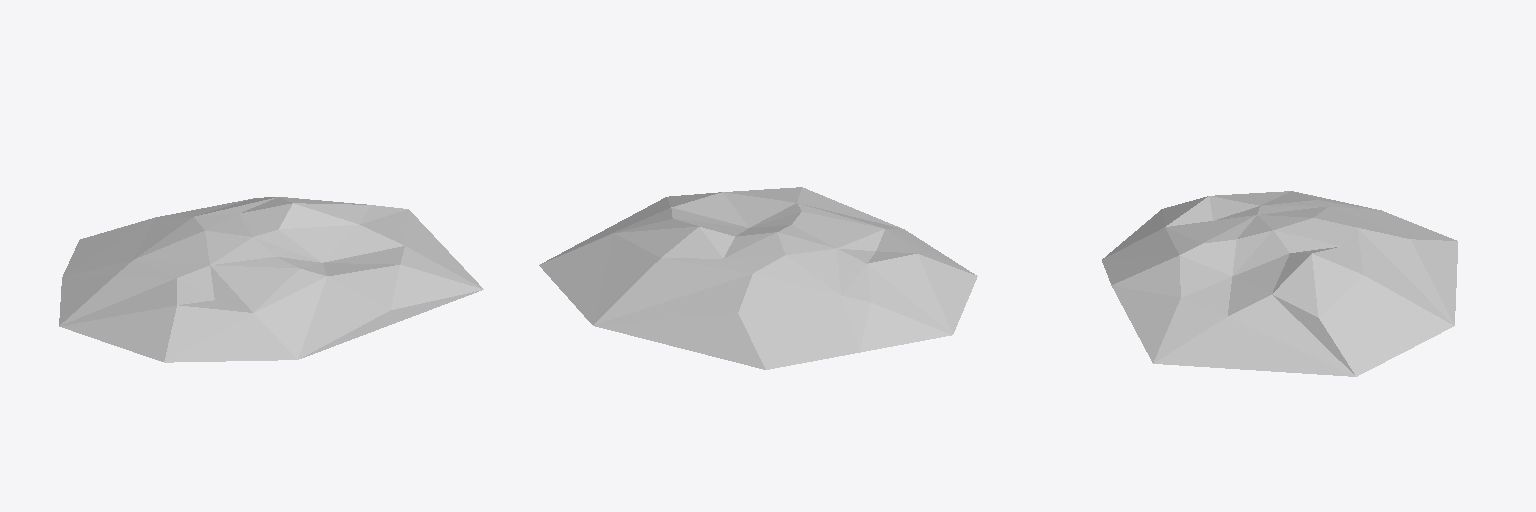
Rendered from MagosBlackSand_Mesh.obj.
The picture shows the model from 3 angles: view 1: azimuth 30°, elevation 25°; view 2: azimuth 150°, elevation 25°; view 3: azimuth 270°, elevation 25°; orthographic projection.
Visible parts, largest first — view 1: MagosSandTile; view 2: MagosSandTile; view 3: MagosSandTile.
Boxes of the visible parts, <box> form: MagosSandTile: <box>59,197,483,362</box>; MagosSandTile: <box>539,187,977,369</box>; MagosSandTile: <box>1102,191,1457,376</box>.
Bounding box in the file's own units: 22.71 × 3.21 × 18.37.